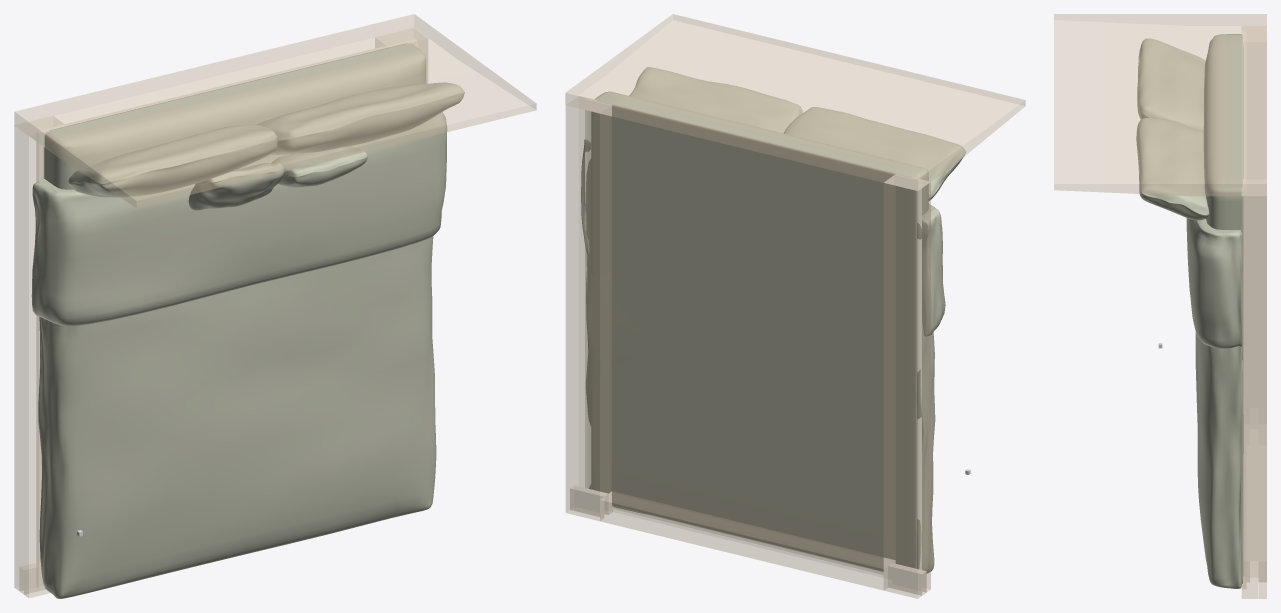
The model's file is 1775668899876_greenbed.glb.
3 renders of one model, left to right at view 1: azimuth 30°, elevation 25°; view 2: azimuth 150°, elevation 25°; view 3: azimuth 270°, elevation 25°, orthographic. The views are drawn at different scales.
Parts seen in each view (by area): view 1: California_King_Size_Bed_With_Thyme_Sheets_Pine_V1_NEW; view 2: California_King_Size_Bed_With_Thyme_Sheets_Pine_V1_NEW; view 3: California_King_Size_Bed_With_Thyme_Sheets_Pine_V1_NEW.
Boxes of the visible parts, box(x1,y1,x2,y2) form: California_King_Size_Bed_With_Thyme_Sheets_Pine_V1_NEW: box(14, 14, 536, 598); California_King_Size_Bed_With_Thyme_Sheets_Pine_V1_NEW: box(565, 14, 1025, 598); California_King_Size_Bed_With_Thyme_Sheets_Pine_V1_NEW: box(1054, 14, 1266, 598).
Bounding box in the file's own units: 203 × 229 × 107.
